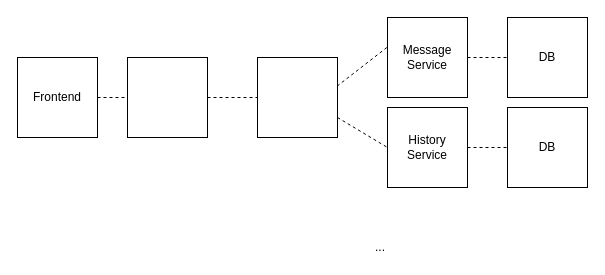
The diagram is 605 pixels wide and 275 high, and some of its shapes have lost their labels. Each missing label, with the centre of its shape:
"API Gateway" goes at point (167, 97).
"Eureka Service" goes at point (297, 97).
